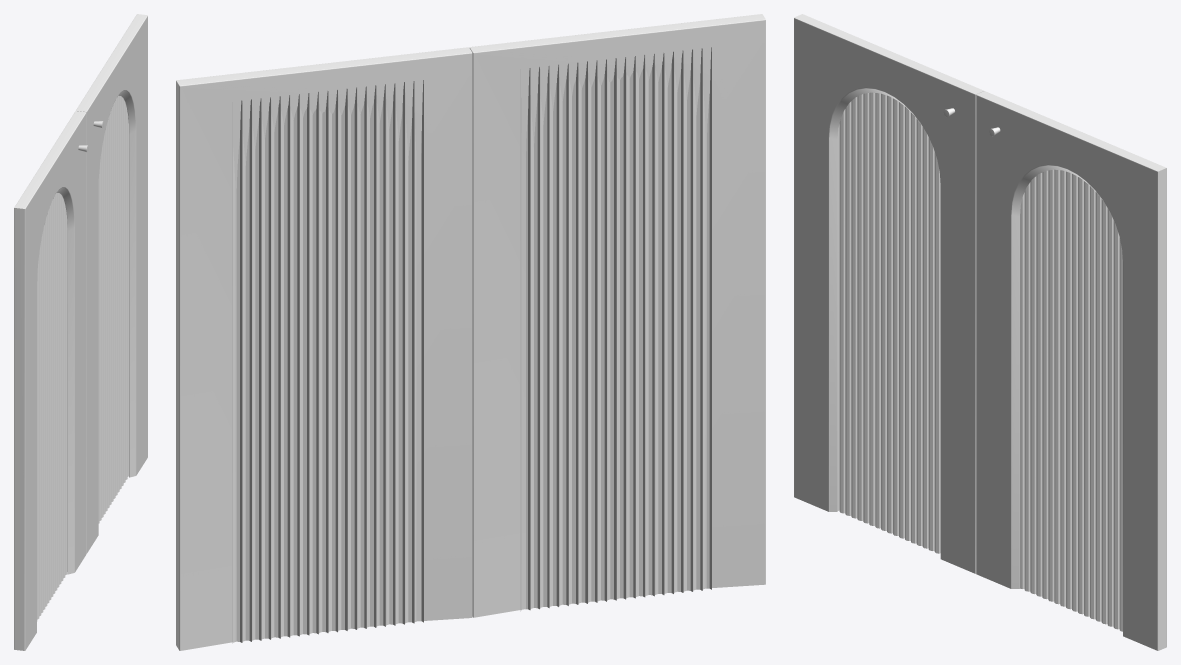
File: tvtable_0203_door.glb
3 renders of one model, left to right at view 1: azimuth 30°, elevation 25°; view 2: azimuth 150°, elevation 25°; view 3: azimuth 270°, elevation 25°, orthographic. The views are drawn at different scales.
Visible parts, largest first — view 1: tvtable_0203_door; view 2: tvtable_0203_door; view 3: tvtable_0203_door.
Part boxes in pixels (bbox=[...]): tvtable_0203_door: bbox=[14, 14, 147, 650]; tvtable_0203_door: bbox=[176, 14, 765, 650]; tvtable_0203_door: bbox=[794, 14, 1166, 650].
Size of the model in its own units: 0.5793 by 0.8224 by 0.5793.
1 material, 1 textured.
